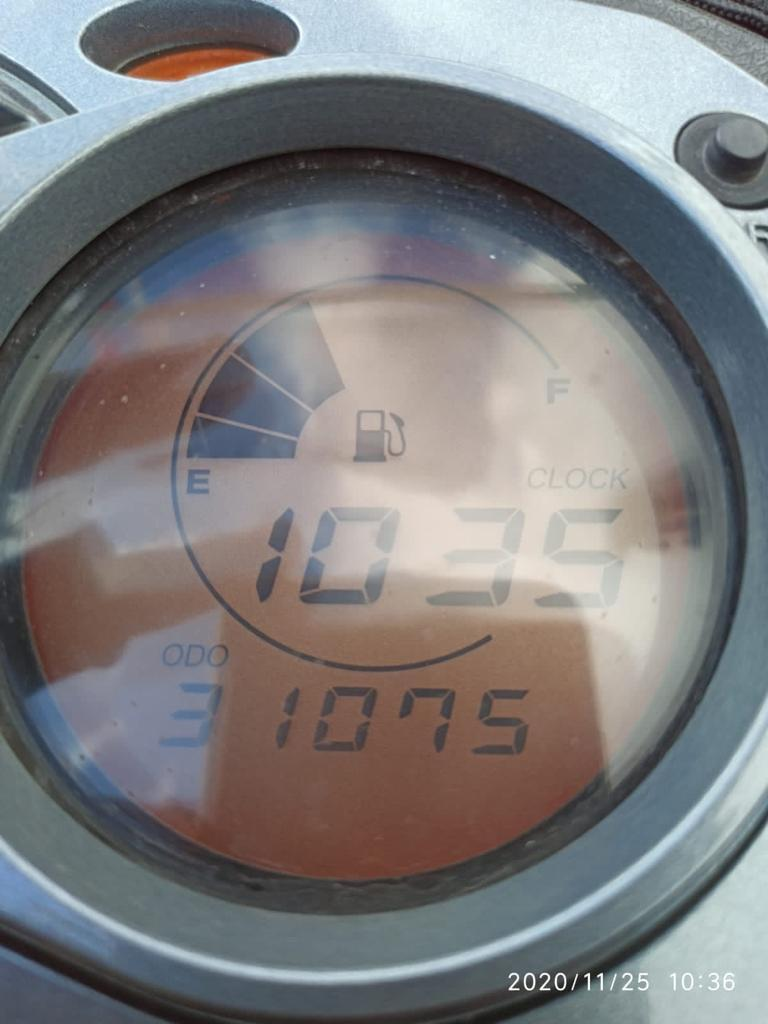0: (300, 503, 401, 606), (311, 685, 378, 753)
1: (254, 504, 295, 604), (274, 686, 299, 748)
3: (426, 504, 528, 610), (158, 682, 223, 749)
5: (533, 506, 628, 610), (471, 688, 530, 756)
7: (396, 687, 456, 754)
X: (185, 466, 213, 496), (544, 375, 572, 405), (160, 642, 183, 667), (207, 644, 228, 668), (527, 466, 548, 489), (184, 643, 204, 667), (588, 467, 609, 489), (610, 467, 630, 490), (566, 468, 587, 489), (548, 465, 564, 490)
odometer: (15, 179, 740, 890)
